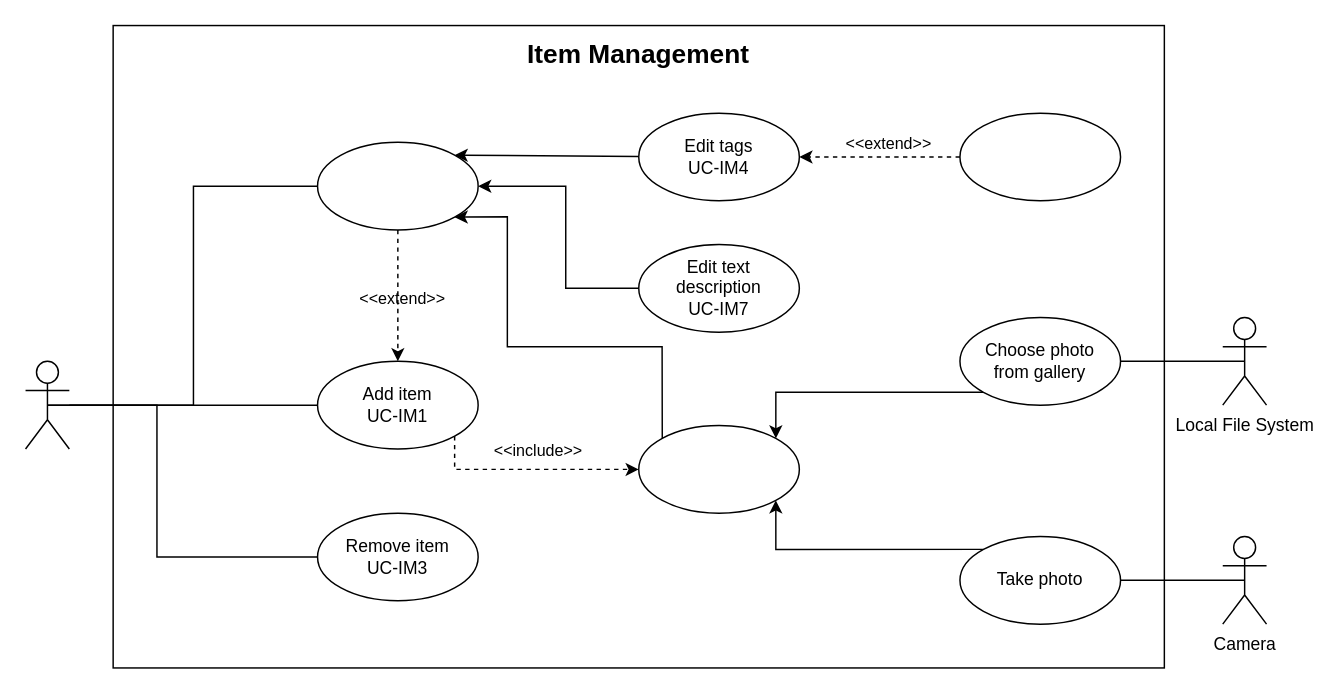
The diagram is 1339 pixels wide and 694 high, and some of its shapes have lost their labels. The centre of each missing label's shape, as x and y in pixels:
"Create new tag UC-IM5" goes at (1039,156).
"Edit item UC-IM2" goes at (397,185).
"Edit photo UC-IM8" goes at (718,468).
"User" goes at (46,404).
